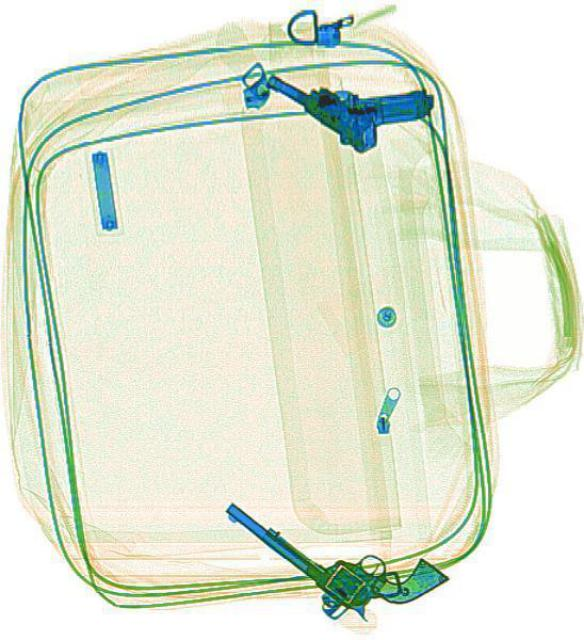Gun: (223, 444, 433, 638), (259, 13, 437, 173)
